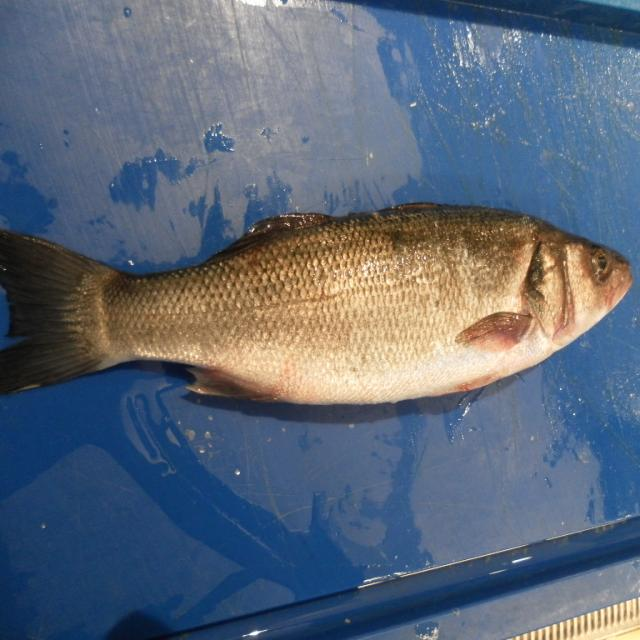Sea-Bass-levrek-: (0, 202, 632, 411)
